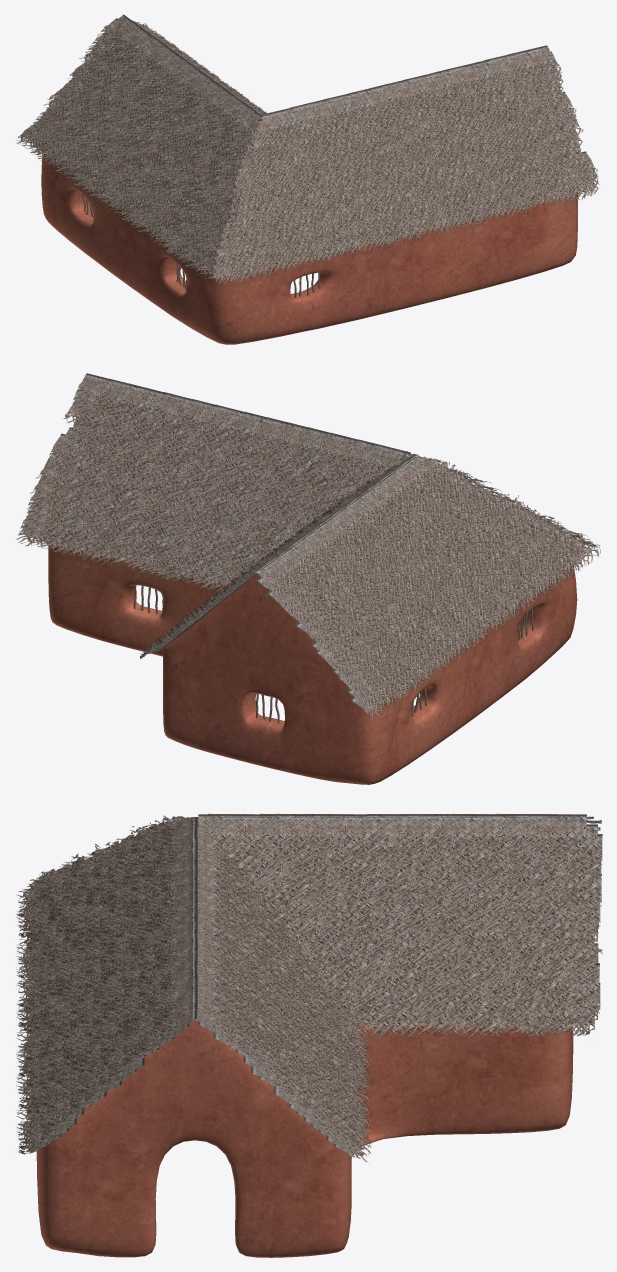
The picture shows the model from 3 angles, top to bottom: view 1: azimuth 30°, elevation 25°; view 2: azimuth 150°, elevation 25°; view 3: azimuth 270°, elevation 25°; orthographic projection. The views are drawn at different scales.
Parts seen in each view (by area): view 1: bool.001, bool, bool.003, bool.002; view 2: bool, bool.004, bool.003, bool.002, bool.001; view 3: bool.002, bool, bool.001, bool.004, bool.003.
Part boxes in pixels (<box>): bool.001: <box>212,45,599,284</box>; bool: <box>41,125,577,344</box>; bool.003: <box>16,14,262,282</box>; bool.002: <box>122,17,266,121</box>; bool: <box>48,532,577,784</box>; bool.004: <box>16,373,410,592</box>; bool.003: <box>254,453,600,720</box>; bool.002: <box>140,457,415,658</box>; bool.001: <box>83,375,600,548</box>; bool.002: <box>198,813,602,1038</box>; bool: <box>36,978,573,1257</box>; bool.001: <box>16,816,197,1154</box>; bool.004: <box>190,819,371,1161</box>; bool.003: <box>41,815,601,878</box>.
Bounding box in the file's own units: 6.4 × 2.73 × 5.68.
3 materials, 2 textured.
